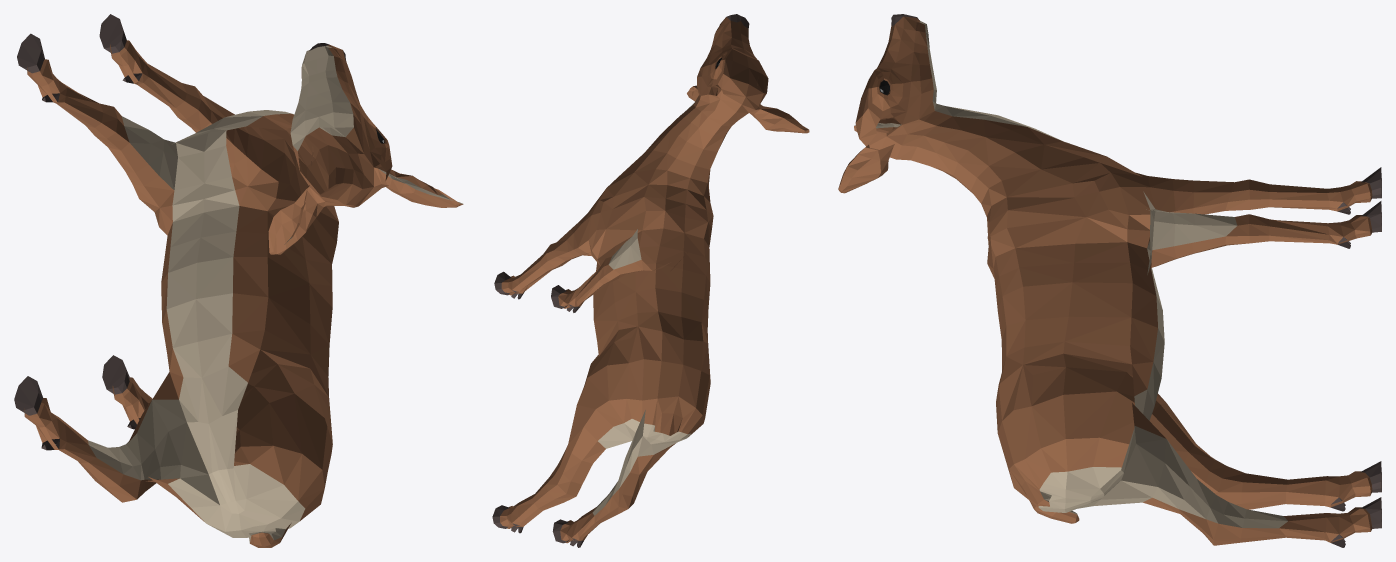
The model's file is deer-idle-1.glb.
3 views of the same model, side by side, from view 1: azimuth 30°, elevation 25°; view 2: azimuth 150°, elevation 25°; view 3: azimuth 270°, elevation 25° (orthographic). The views are drawn at different scales.
Size of the model in its own units: 0.4761 by 1.45 by 1.41.
